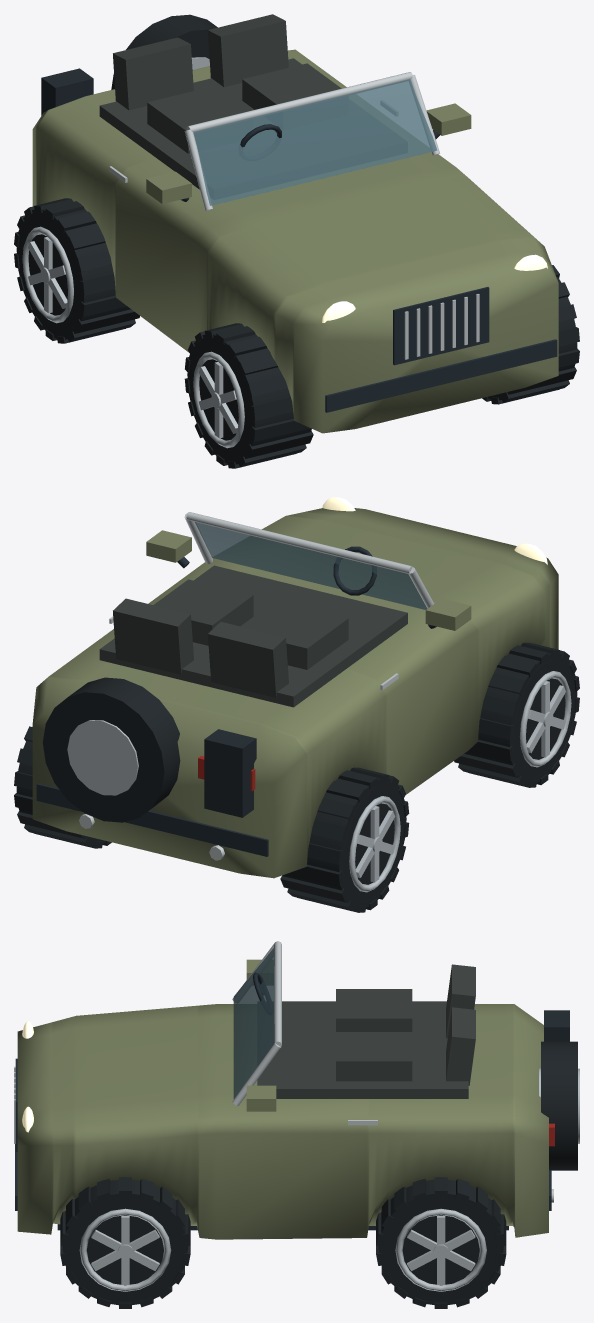
Rendered from willy.glb.
3 views of the same model, one above another, from view 1: azimuth 30°, elevation 25°; view 2: azimuth 150°, elevation 25°; view 3: azimuth 270°, elevation 25° (orthographic). The views are drawn at different scales.
Parts seen in each view (by area): view 1: exterior-paint, interior, windows, tire-front-left, tire-rear-left, black-trim, chrome, rim-front-left, rim-rear-left, tire-front-right, rubber, secondary-paint (+1 smaller); view 2: exterior-paint, interior, rubber, tire-rear-left, tire-front-left, windows, rims, secondary-paint, black-trim, chrome, rim-rear-left, rim-front-left (+2 smaller); view 3: exterior-paint, interior, tire-front-right, tire-rear-right, rubber, windows, rim-rear-right, rim-front-right, chrome, black-trim, secondary-paint.
Part boxes in pixels (x1,y1,x2,y2): exterior-paint: (32, 49, 558, 433); interior: (99, 14, 407, 196); windows: (193, 79, 437, 205); tire-front-left: (184, 323, 313, 468); tire-rear-left: (14, 198, 139, 343); black-trim: (180, 124, 557, 412); chrome: (109, 72, 479, 359); rim-front-left: (193, 351, 244, 448); rim-rear-left: (22, 226, 73, 323); tire-front-right: (482, 265, 579, 404); rubber: (111, 14, 217, 89); secondary-paint: (41, 68, 93, 115); exterior-paint: (32, 508, 558, 878); interior: (99, 565, 407, 707); rubber: (42, 677, 180, 822); tire-rear-left: (280, 767, 409, 912); tire-front-left: (454, 642, 579, 787); windows: (195, 522, 427, 609); rims: (67, 720, 138, 795); secondary-paint: (204, 729, 256, 817); black-trim: (36, 546, 436, 856); chrome: (79, 512, 434, 860); rim-rear-left: (349, 796, 400, 892); rim-front-left: (520, 671, 571, 767); exterior-paint: (17, 959, 548, 1239); interior: (257, 964, 475, 1098); tire-front-right: (60, 1177, 190, 1308); tire-rear-right: (376, 1177, 506, 1308); rubber: (541, 1041, 577, 1170); windows: (233, 948, 273, 1098); rim-rear-right: (395, 1208, 486, 1291); rim-front-right: (79, 1208, 171, 1291); chrome: (14, 941, 553, 1202); black-trim: (15, 972, 551, 1230); secondary-paint: (544, 1010, 569, 1041).
Bounding box in the file's own units: 1.92 × 1.45 × 3.05.
